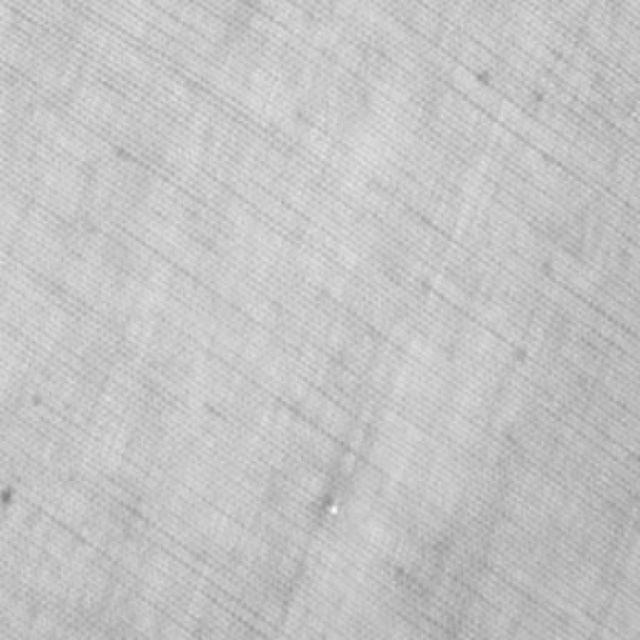seam: (290, 472, 365, 545)
